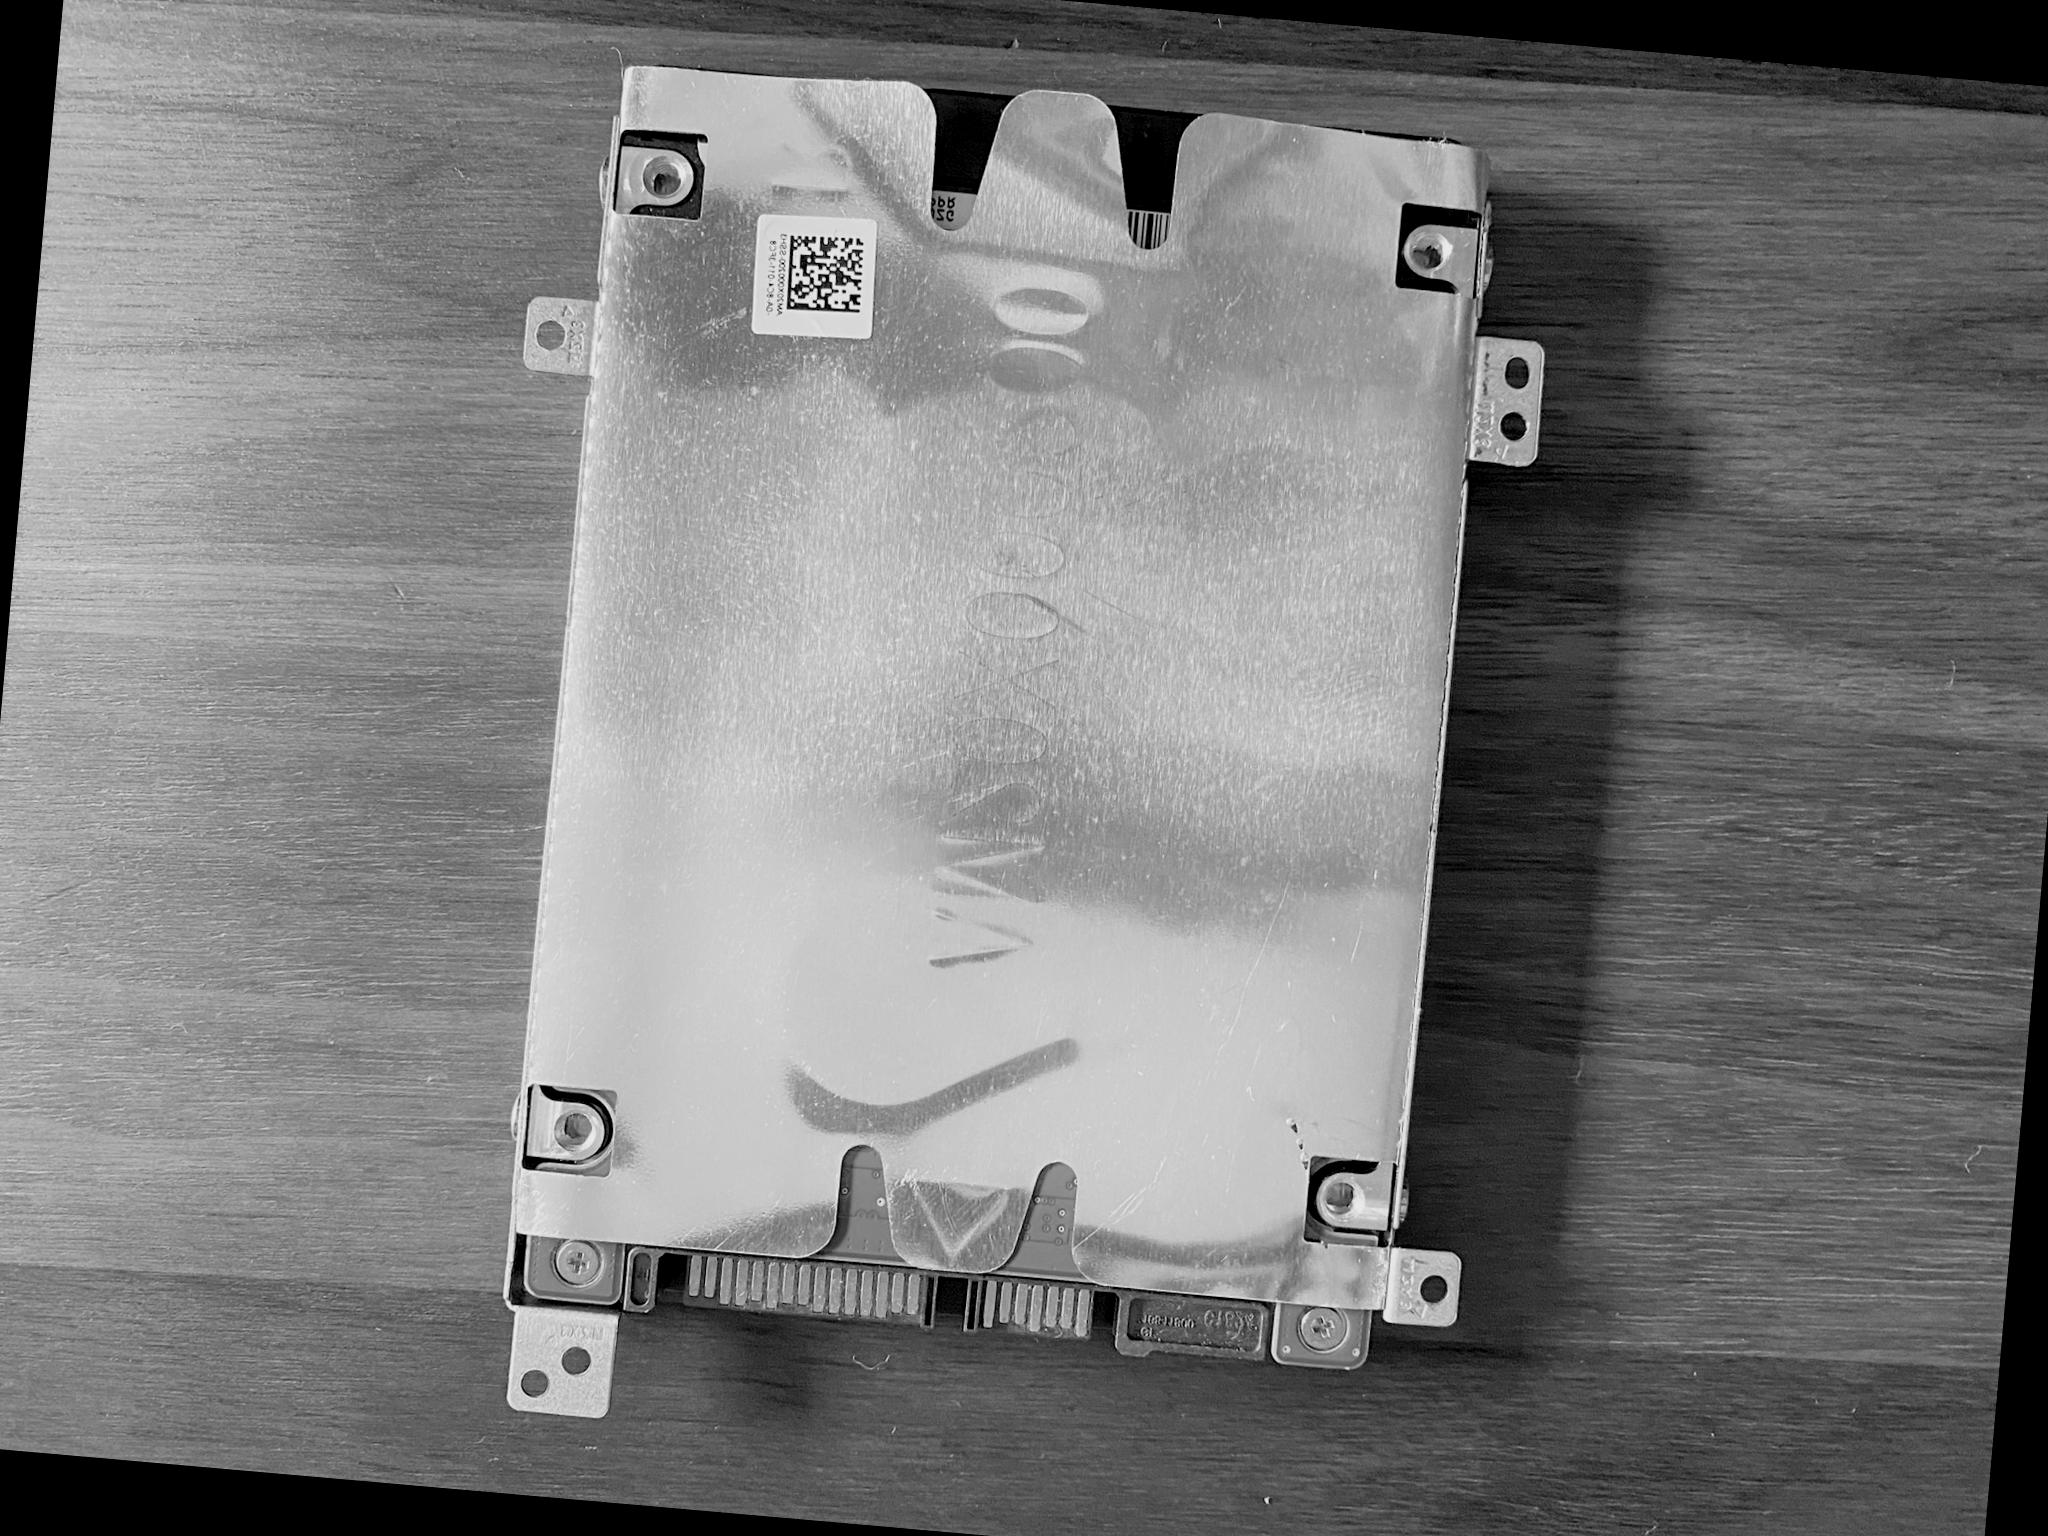screw: (1293, 1304, 1347, 1355), (550, 1238, 605, 1288)
